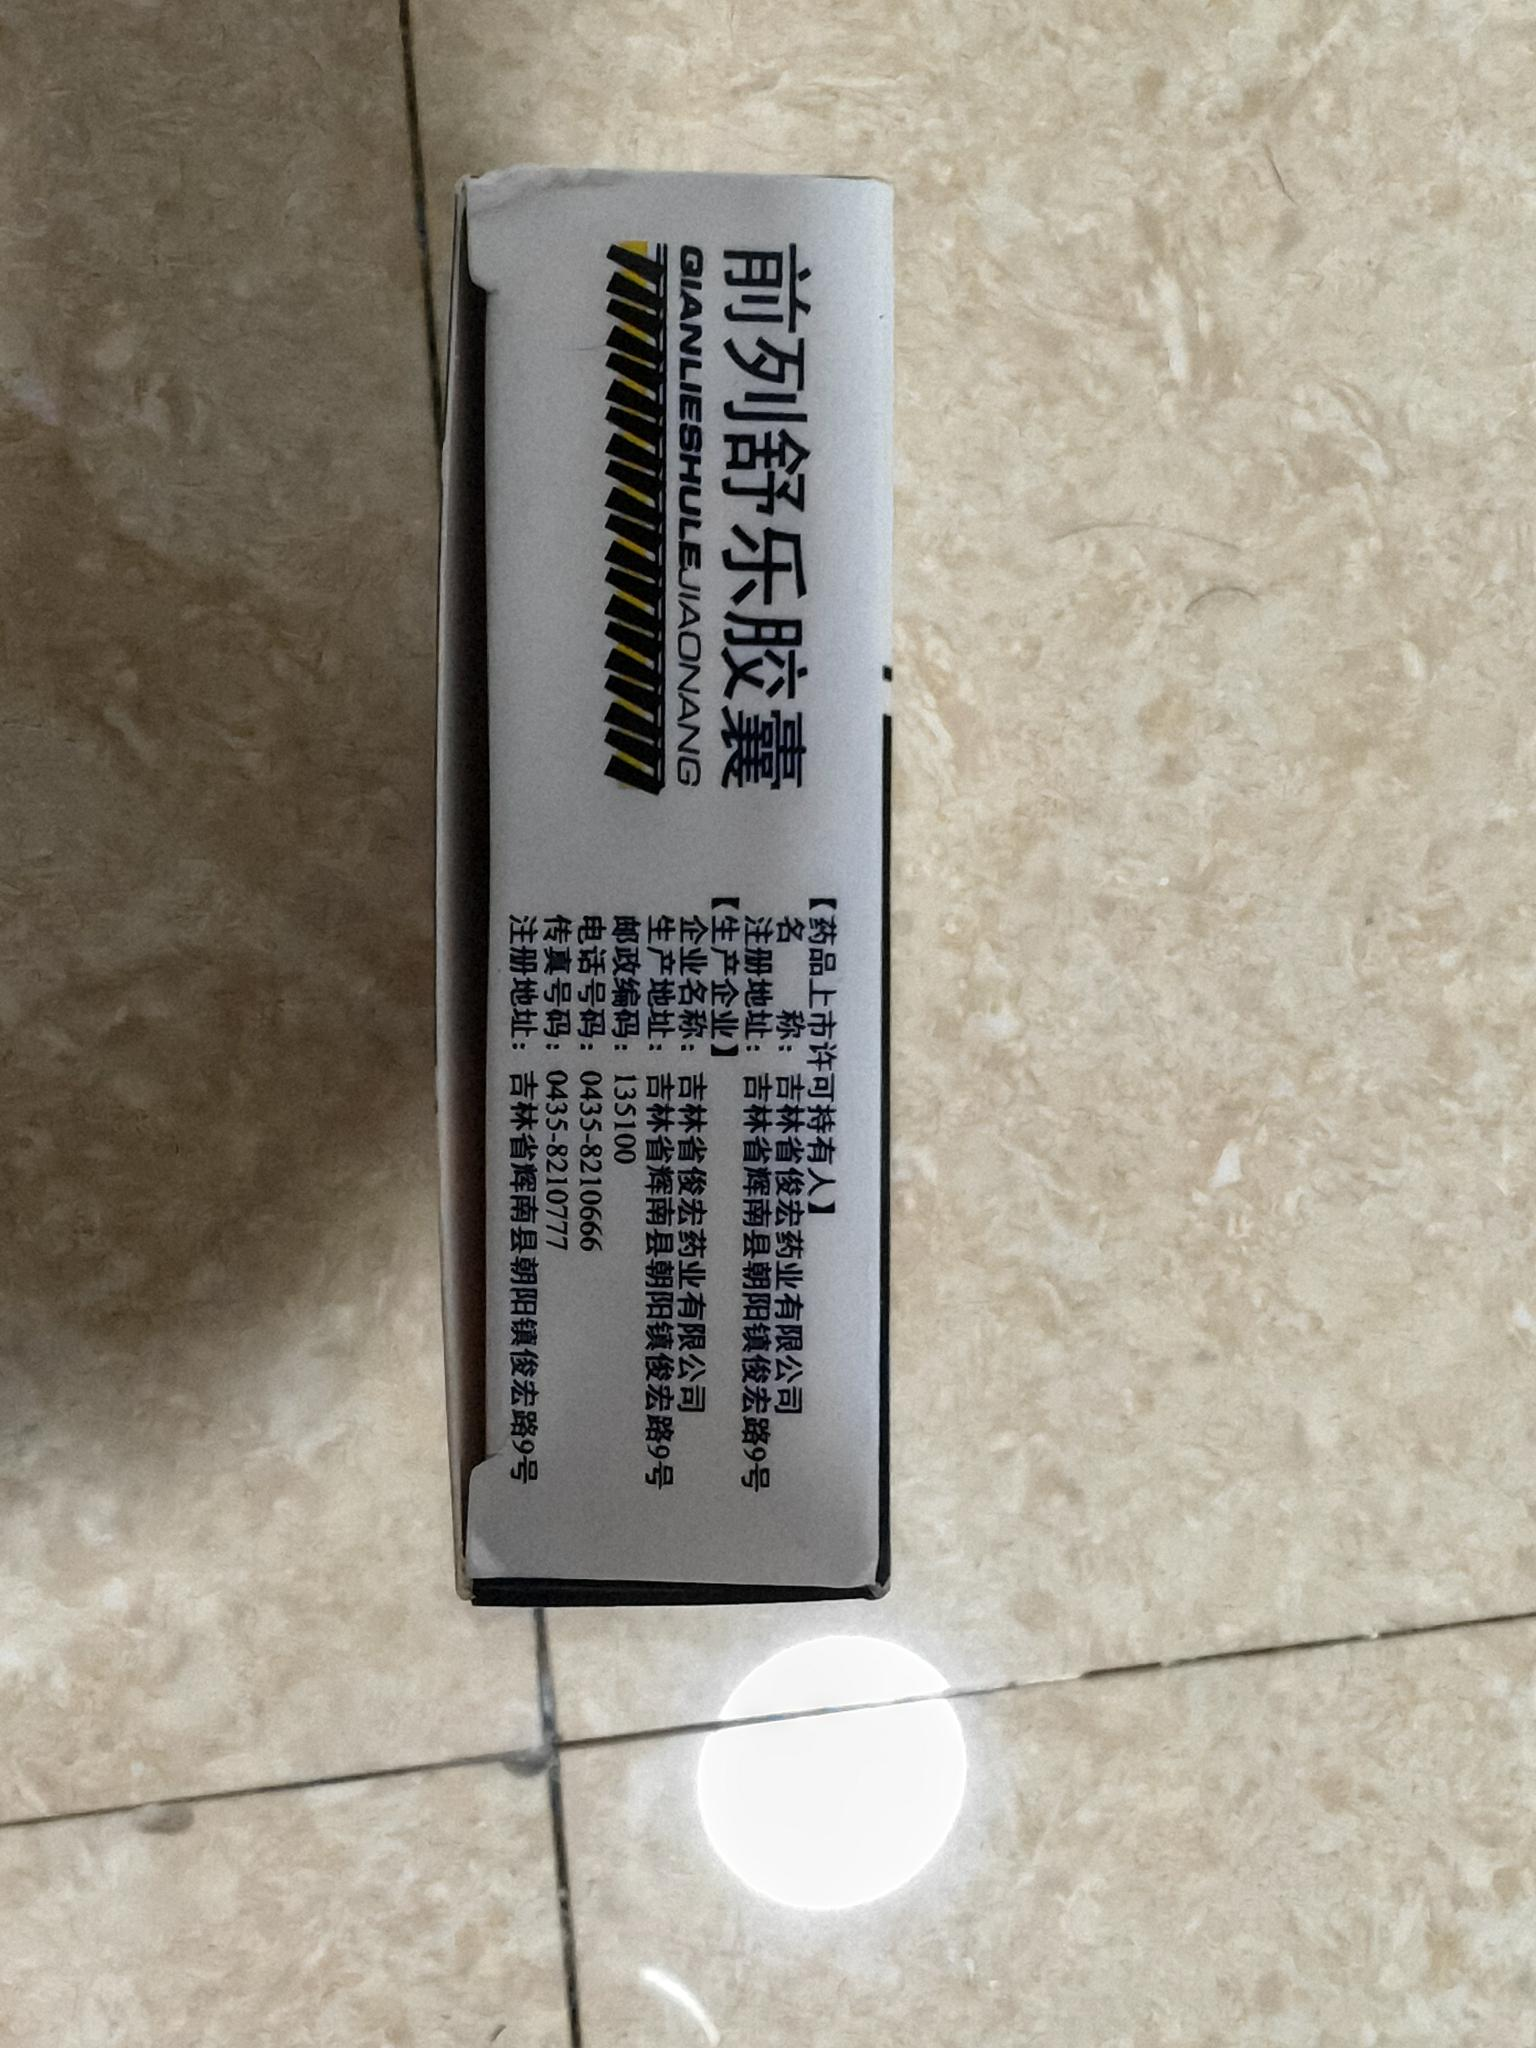Medicine2: (418, 145, 920, 1658)
